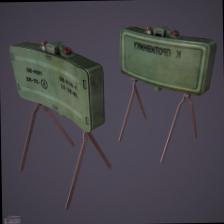MOH-50: (0, 33, 113, 195), (116, 14, 218, 162)
